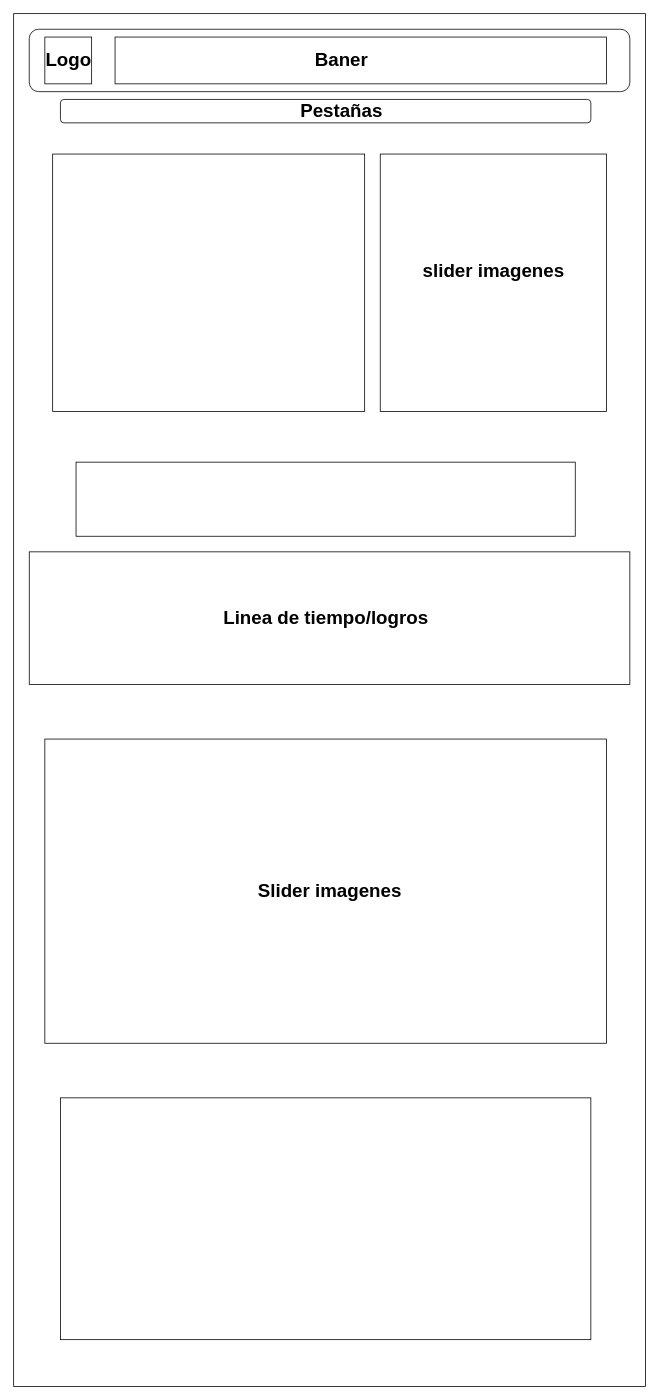
Some shapes in this 659 by 1400 pixel diagram are drawn without their labels. The box of each missing label's shape, as (x1, y1, x2, y2) in pixels:
Historia: (75, 461, 575, 536)
noticias: (60, 1097, 591, 1340)
Texto principal: (52, 153, 365, 411)
